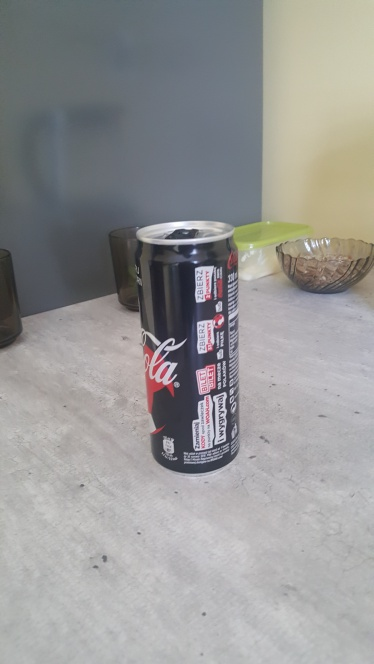colazero: (137, 219, 236, 470)
